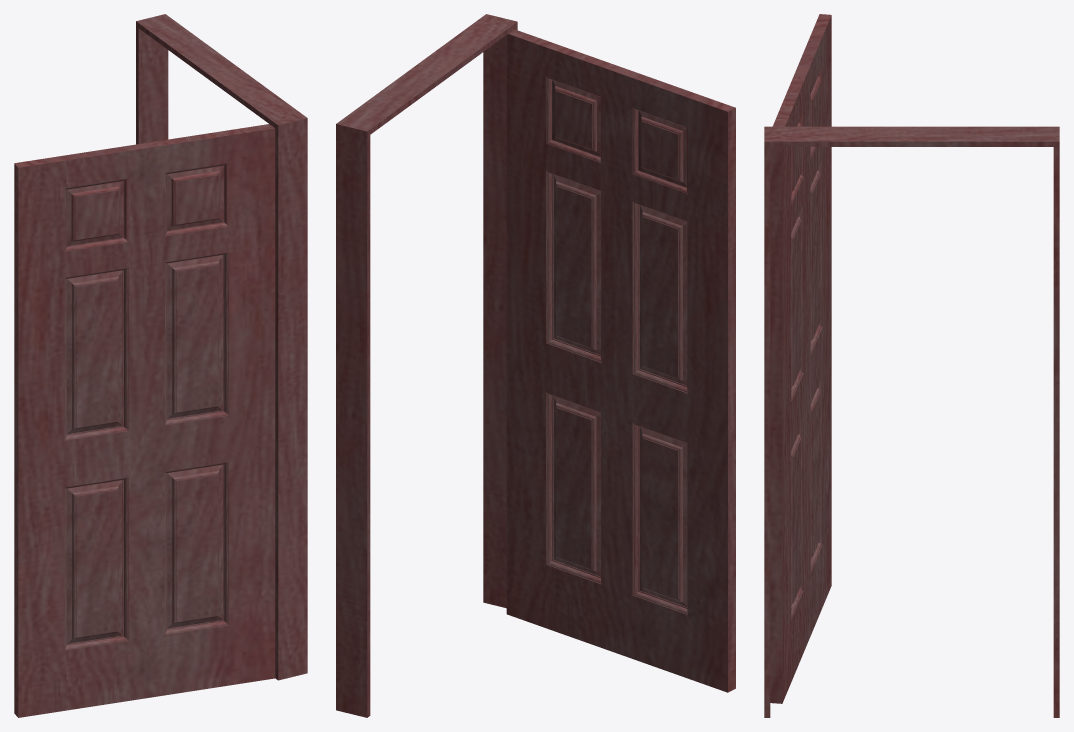
Rendered from Puerta.fbx.
The picture shows the model from 3 angles, left to right: view 1: azimuth 30°, elevation 25°; view 2: azimuth 150°, elevation 25°; view 3: azimuth 270°, elevation 25°; orthographic projection. The views are drawn at different scales.
Visible parts, largest first — view 1: Model; view 2: Model; view 3: Model.
Boxes of the visible parts, x1=… form: Model: x1=14, y1=14, x2=307, y2=717; Model: x1=336, y1=14, x2=735, y2=717; Model: x1=764, y1=14, x2=1059, y2=717.
Bounding box in the file's own units: 40.01 × 80.75 × 37.5.
